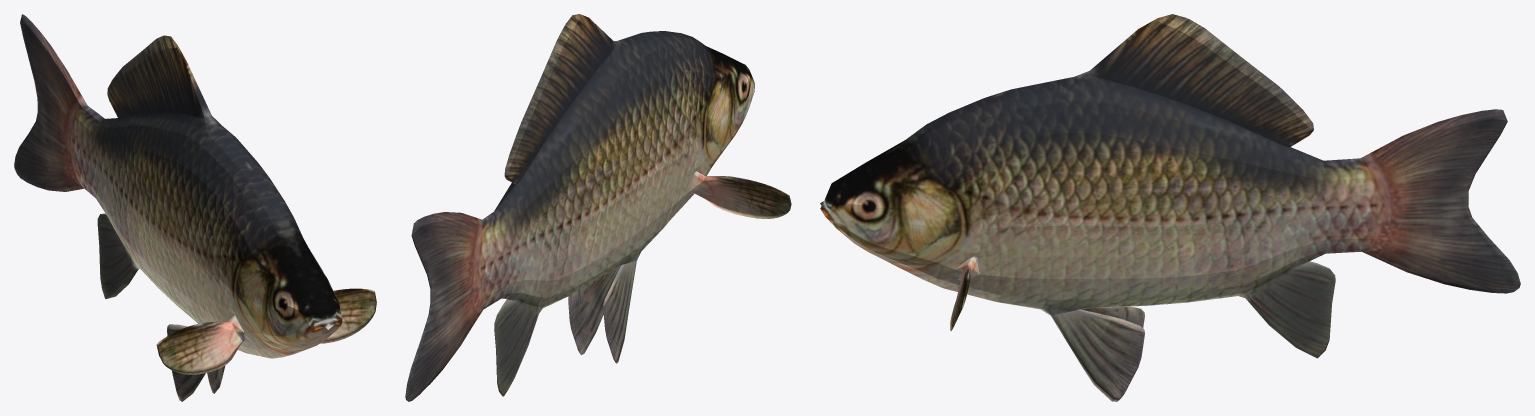
Rendered from Catla-fish.glb.
3 renders of one model, left to right at view 1: azimuth 30°, elevation 25°; view 2: azimuth 150°, elevation 25°; view 3: azimuth 270°, elevation 25°, orthographic. The views are drawn at different scales.
Visible parts, largest first — view 1: Fish; view 2: Fish; view 3: Fish.
Part boxes in pixels (bbox=[...]): Fish: bbox=[14, 14, 376, 401]; Fish: bbox=[405, 14, 791, 401]; Fish: bbox=[820, 14, 1520, 401].
Size of the model in its own units: 0.0181 by 0.0271 by 0.0453.
Materials: 1 (1 with a texture image).
